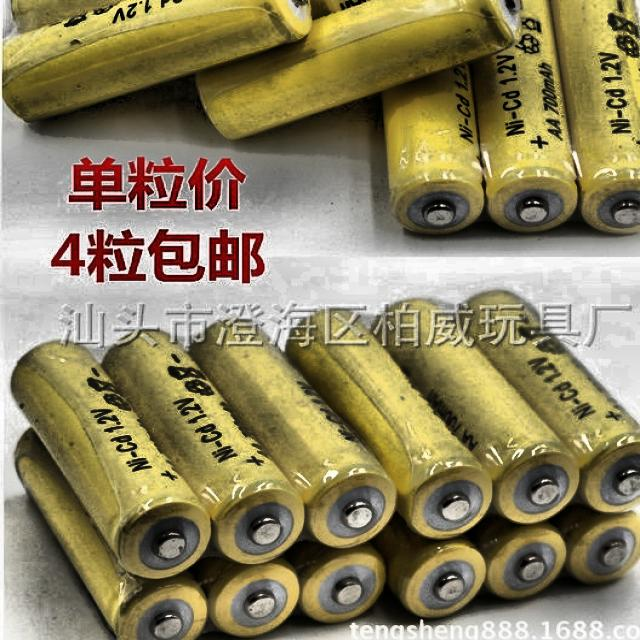Non-Valuable Waste - Batteries: (11, 342, 210, 577), (288, 310, 493, 538), (105, 330, 305, 563), (192, 320, 396, 548), (378, 299, 580, 523), (197, 0, 520, 139), (16, 432, 209, 640), (469, 291, 640, 513), (3, 0, 311, 120), (472, 0, 578, 232), (550, 0, 640, 233), (384, 65, 484, 233), (375, 517, 486, 618), (192, 556, 300, 637), (469, 516, 567, 599), (287, 542, 386, 622), (551, 505, 640, 584)
